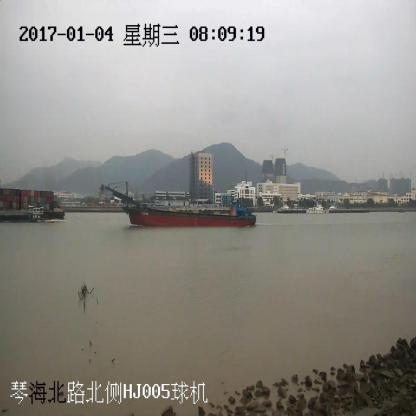Bulk Carrier: (102, 184, 256, 227)
